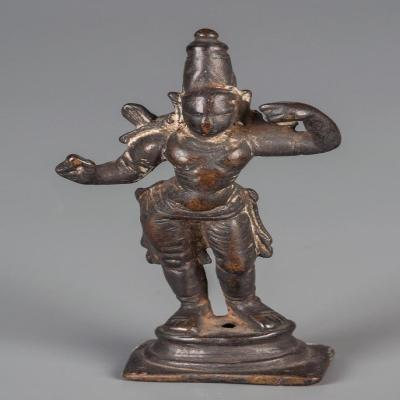sculpture: (54, 29, 342, 386)
